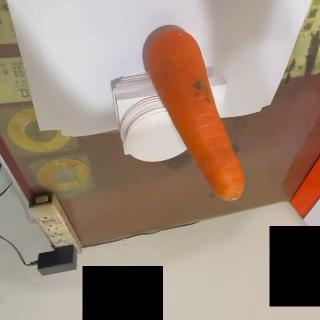carrot: (142, 28, 247, 203)
